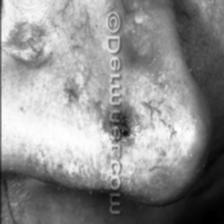Potentially Malignant Skin Tumors: (121, 98, 149, 161)
